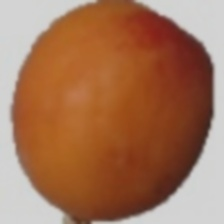apricot: (4, 15, 196, 185)
